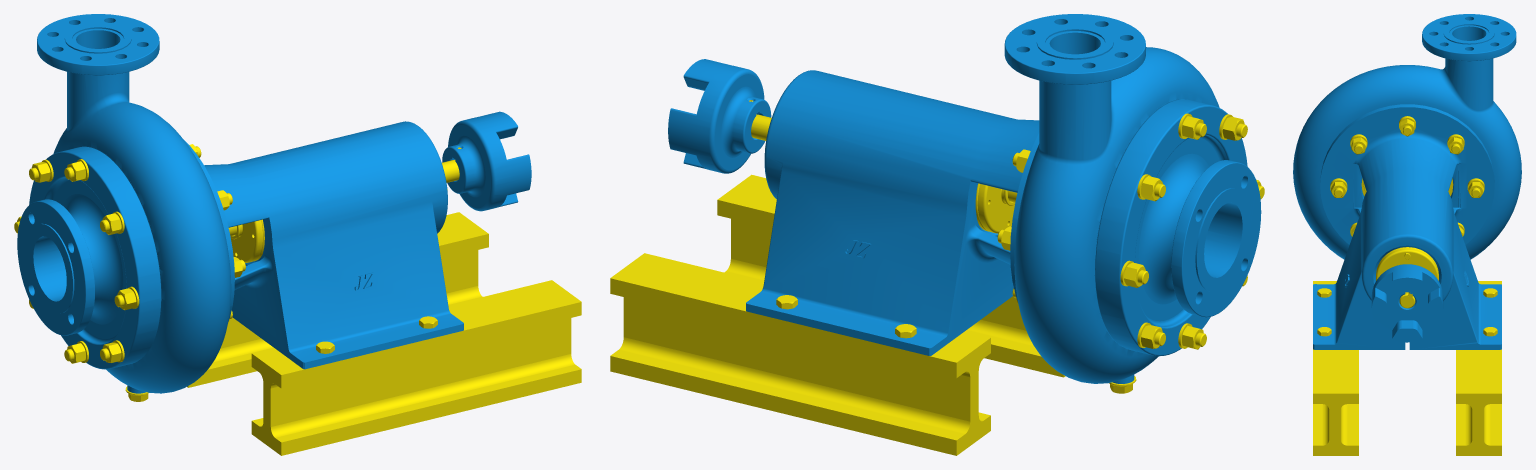
The model's file is PumpHelicoidal_01.fbx.
The picture shows the model from 3 angles, left to right: view 1: azimuth 30°, elevation 25°; view 2: azimuth 150°, elevation 25°; view 3: azimuth 270°, elevation 25°; orthographic projection. The views are drawn at different scales.
Visible parts, largest first — view 1: Object_51, base, body, intake, Object_7, bolts1, Object_21, Object_57.020, Object_57.009; view 2: Object_51, base, body, intake, Object_7, bolts1, Object_21, Object_57.020, Object_57.009; view 3: Object_51, body, base, Object_7, Object_22, bolts2, Object_57.004, Object_11, Object_57.002.
Part boxes in pixels (x1,y1,x2,y2): Object_51: (183,121,463,369); base: (187,212,581,455); body: (37,14,231,393); intake: (17,146,161,369); Object_7: (442,111,531,211); bolts1: (17,161,136,363); Object_21: (230,220,262,262); Object_57.020: (14,167,124,361); Object_57.009: (42,159,139,362); Object_51: (746,70,1039,355); base: (610,174,1065,455); body: (1004,14,1219,383); intake: (1095,99,1261,356); Object_7: (668,59,771,173); bolts1: (1124,116,1261,349); Object_21: (977,184,1015,233); Object_57.020: (1137,122,1264,346); Object_57.009: (1120,113,1232,348); Object_51: (1313,104,1501,349); body: (1293,14,1521,259); base: (1313,281,1501,455); Object_7: (1371,264,1443,342); Object_22: (1376,248,1438,280); bolts2: (1331,119,1483,236); Object_57.004: (1330,116,1484,235); Object_11: (1317,288,1497,336); Object_57.002: (1334,125,1480,197).
Size of the model in its own units: 95.55 by 70.54 by 52.29.
